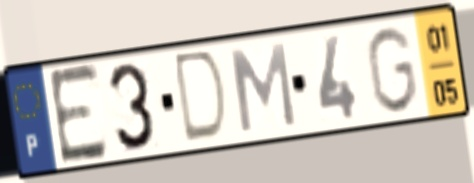3: (106, 58, 158, 156)
4: (315, 31, 361, 124)
D: (173, 47, 231, 147)
E: (44, 60, 112, 170)
G: (363, 23, 421, 117)
M: (228, 39, 300, 136)
